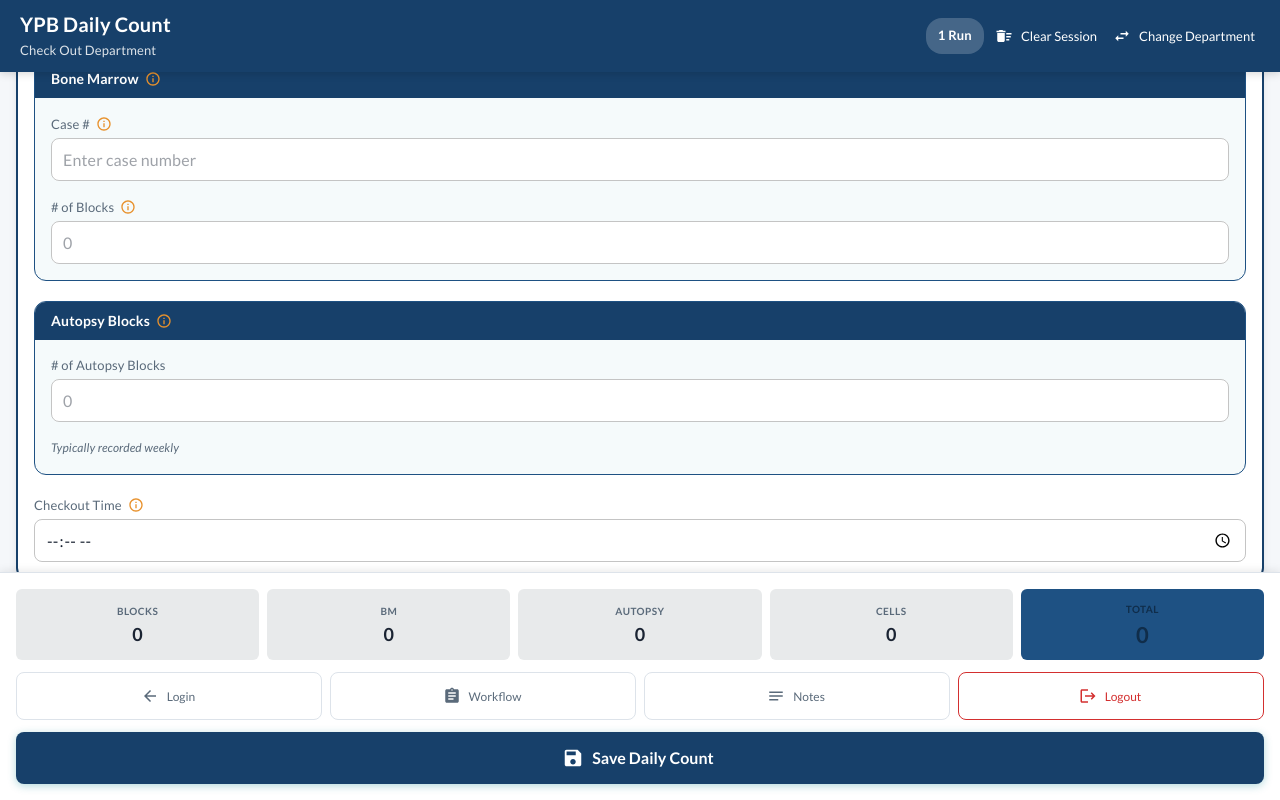
Scenario: Form Workflow Integration › should handle autopsy entries via card section
(page scrolled)
Autopsy section is now always visible as a card (no accordion expand needed)
Type "5" into the field named "# of Autopsy Blocks" at (640, 400), box [51, 379, 1229, 422]
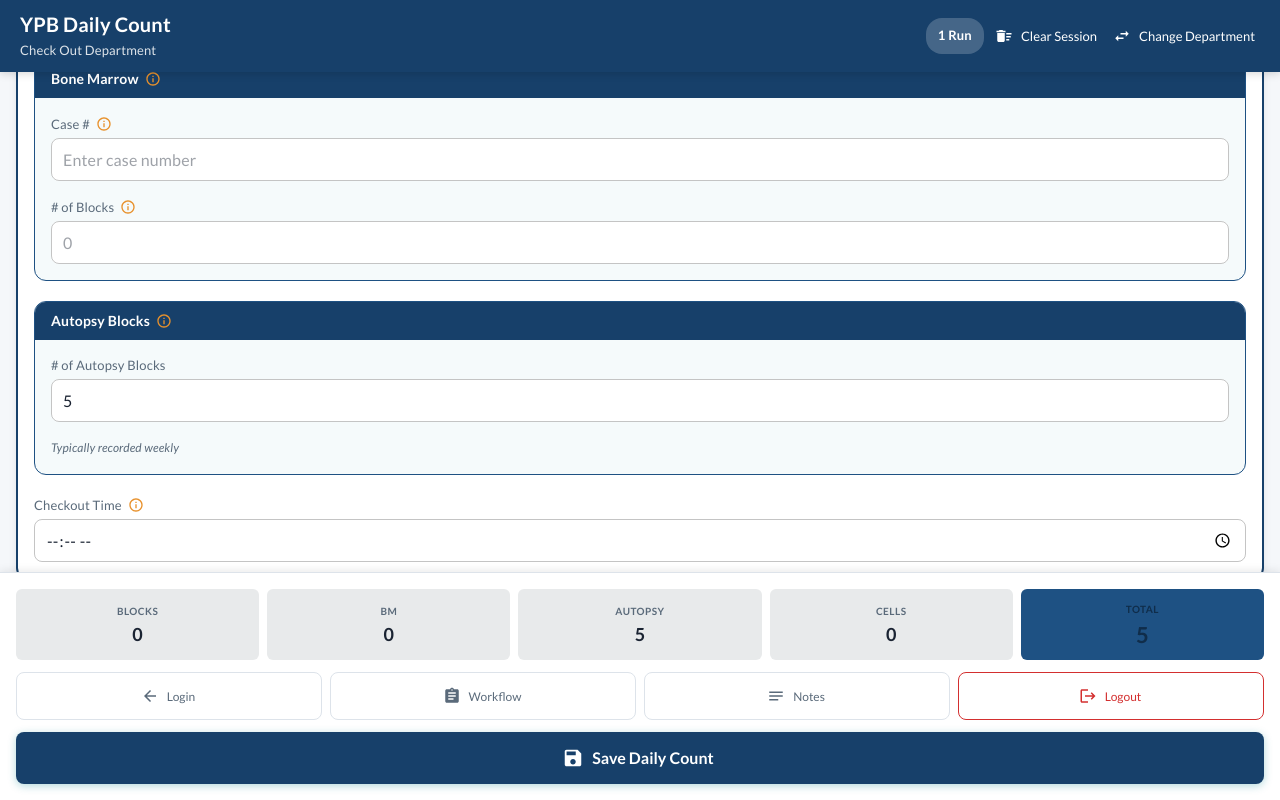
expect the 1st heading "5" is shown: met, box [635, 624, 645, 646]
